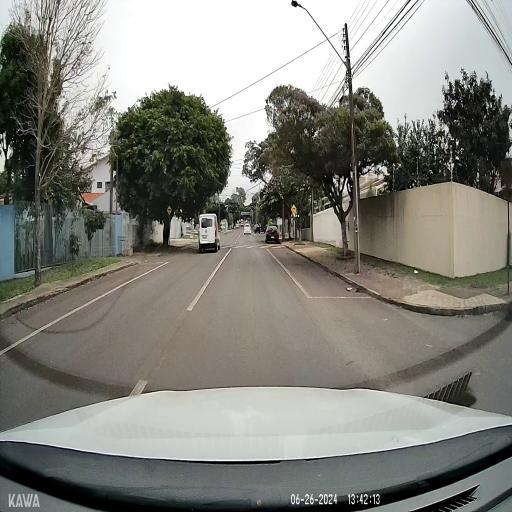A-18: (290, 203, 296, 215), (167, 206, 172, 216)
